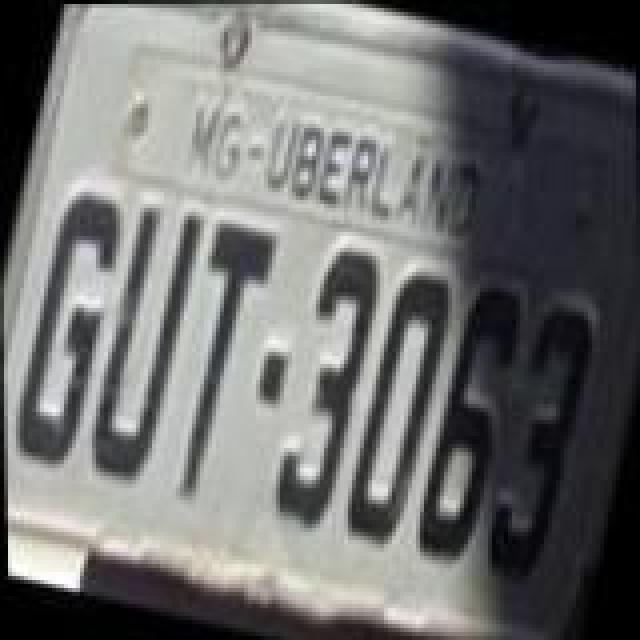3: (470, 284, 610, 596), (260, 234, 396, 538)
6: (400, 270, 536, 578)
G: (2, 176, 138, 472)
O: (328, 258, 464, 558)
T: (150, 212, 286, 516)
U: (76, 190, 216, 490)
